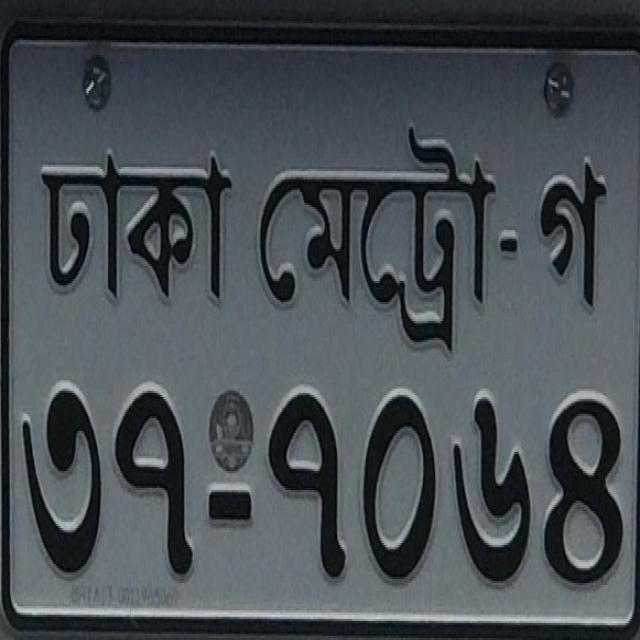numberplate: (1, 13, 638, 634)
